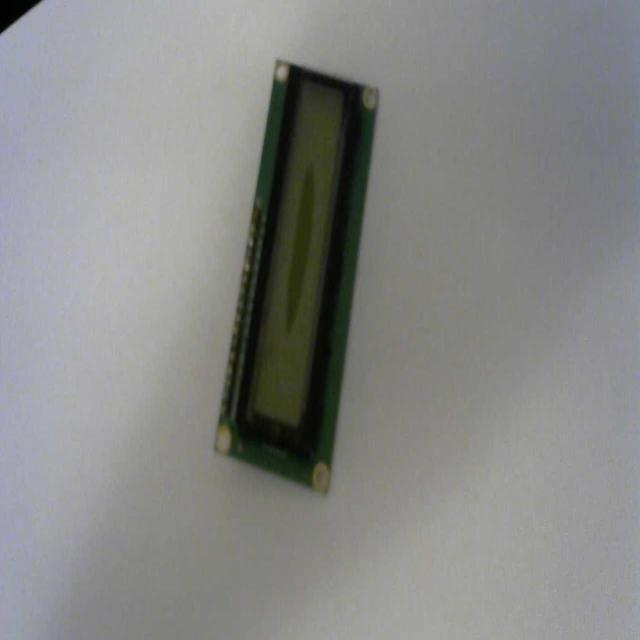lcd: (212, 56, 380, 494)
